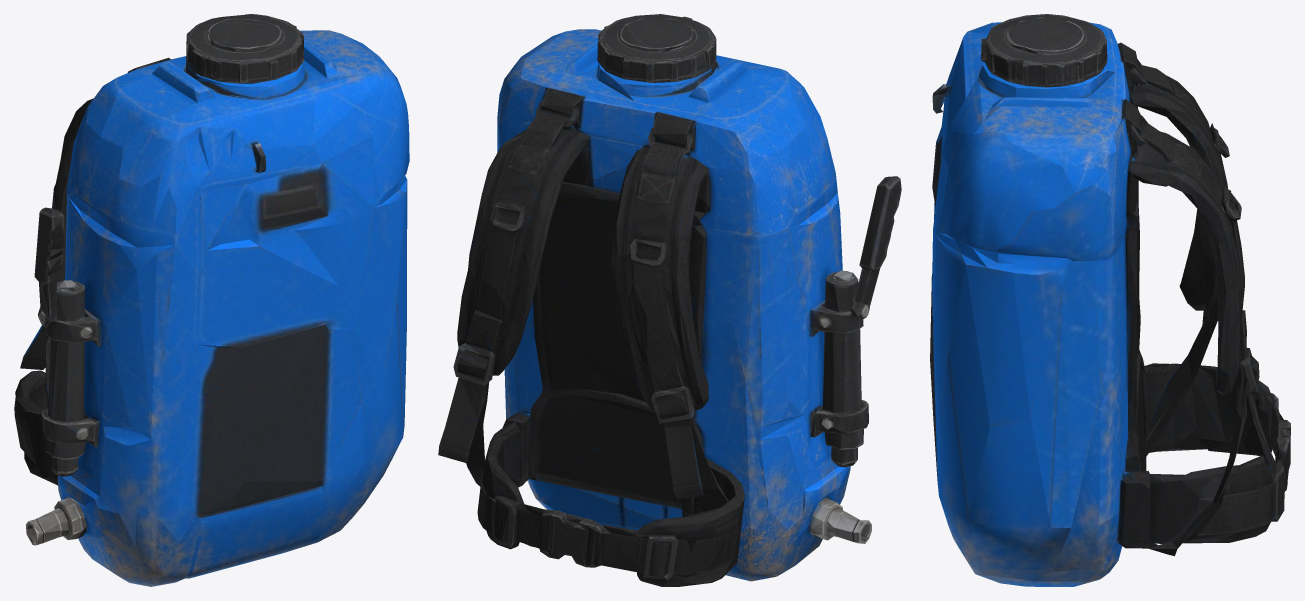
The model's file is tangki-punggung.glb.
3 views of the same model, side by side, from view 1: azimuth 30°, elevation 25°; view 2: azimuth 150°, elevation 25°; view 3: azimuth 270°, elevation 25° (orthographic). The views are drawn at different scales.
Parts seen in each view (by area): view 1: output_unwrapped; view 2: output_unwrapped; view 3: output_unwrapped.
Part boxes in pixels (box(x1,y1,x2,y2)): output_unwrapped: box(14, 14, 409, 586); output_unwrapped: box(438, 14, 901, 586); output_unwrapped: box(930, 14, 1290, 586).
Bounding box in the file's own units: 1.43 × 1.9 × 1.17.
1 material, 1 textured.
